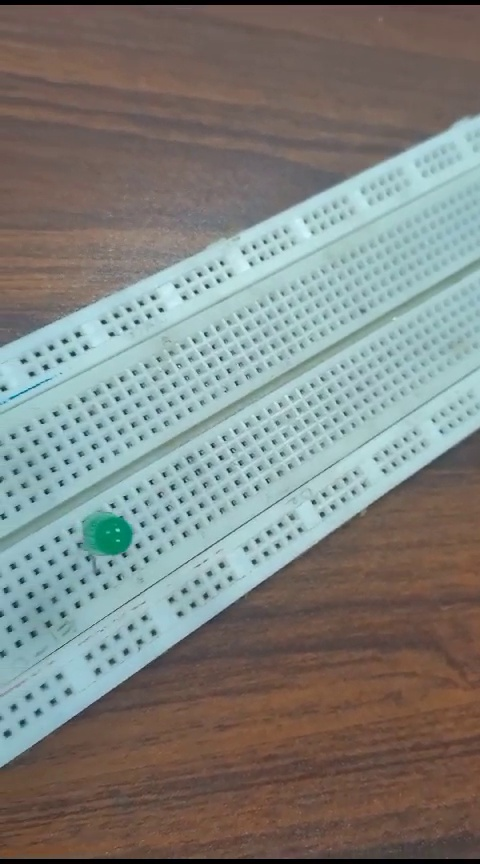LED: (80, 504, 146, 571)
